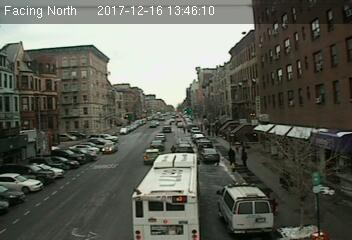bus: (131, 150, 201, 240)
car: (201, 147, 219, 163), (144, 148, 161, 163), (101, 143, 117, 153), (149, 140, 163, 150), (162, 125, 171, 133)
police: (216, 181, 273, 234)
